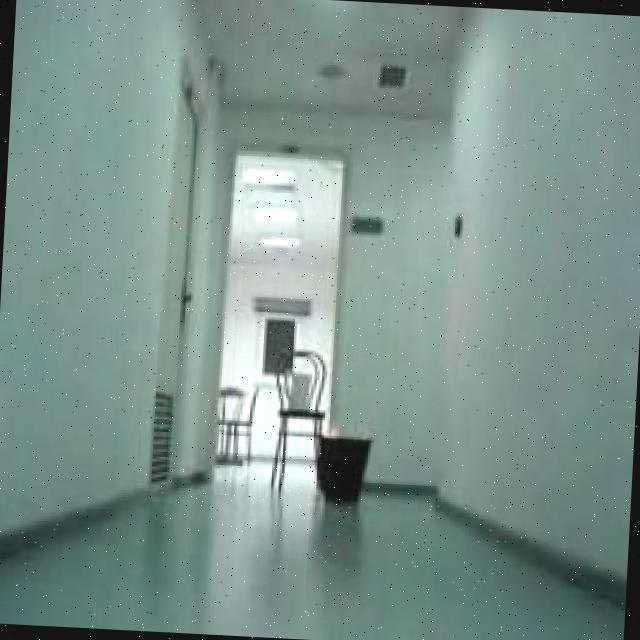Fire: (332, 425, 342, 434)
